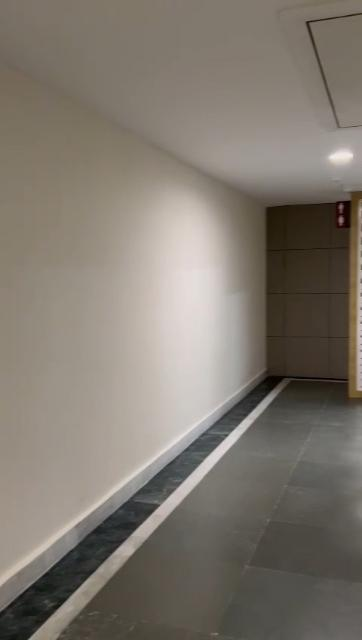floor: (0, 371, 362, 640)
wall: (0, 40, 271, 591)
